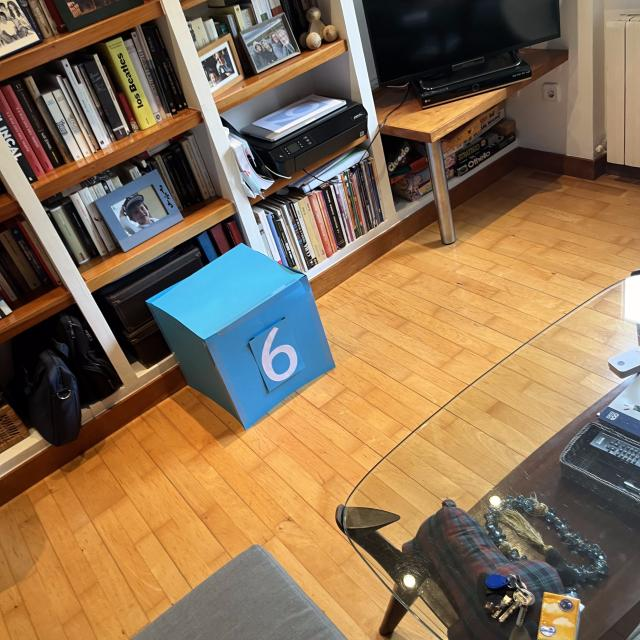box: (144, 240, 338, 431)
